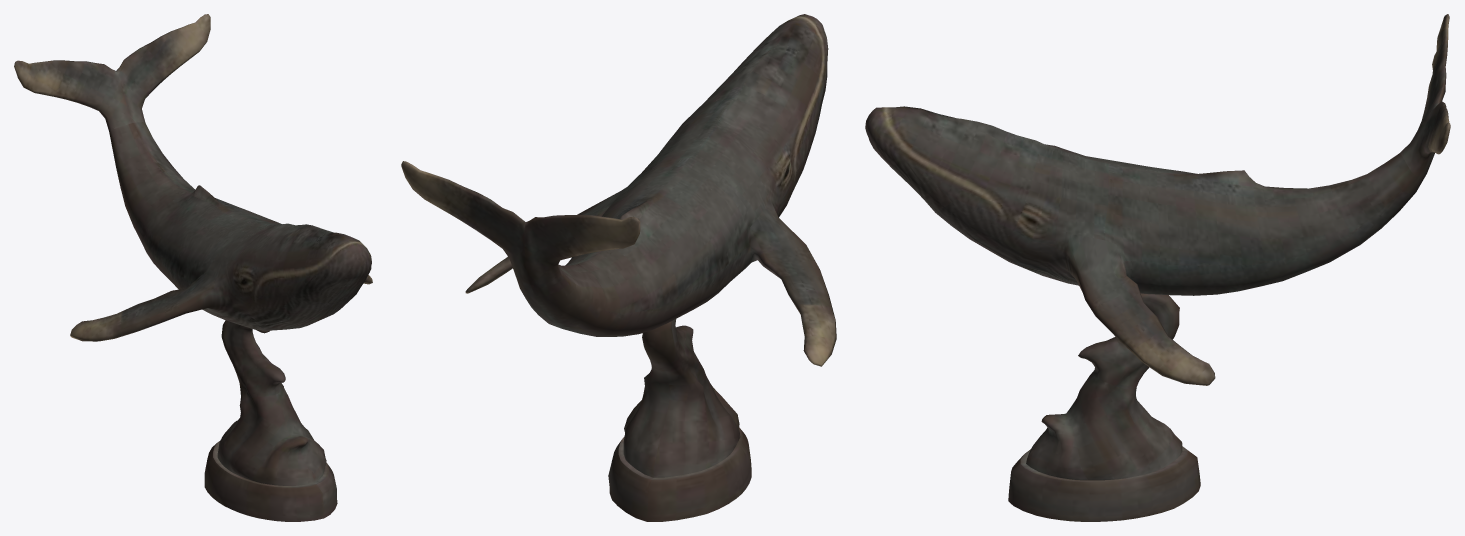
Rendered from ph_bronze_whale_statue.glb.
3 views of the same model, side by side, from view 1: azimuth 30°, elevation 25°; view 2: azimuth 150°, elevation 25°; view 3: azimuth 270°, elevation 25° (orthographic). The views are drawn at different scales.
Visible parts, largest first — view 1: bronze_whale_statue; view 2: bronze_whale_statue; view 3: bronze_whale_statue.
Boxes of the visible parts, bbox=[...] form: bronze_whale_statue: bbox=[14, 14, 372, 521]; bronze_whale_statue: bbox=[401, 14, 836, 521]; bronze_whale_statue: bbox=[865, 14, 1450, 521].
Size of the model in its own units: 0.932 by 1.07 by 1.37.
Materials: 1 (1 with a texture image).
